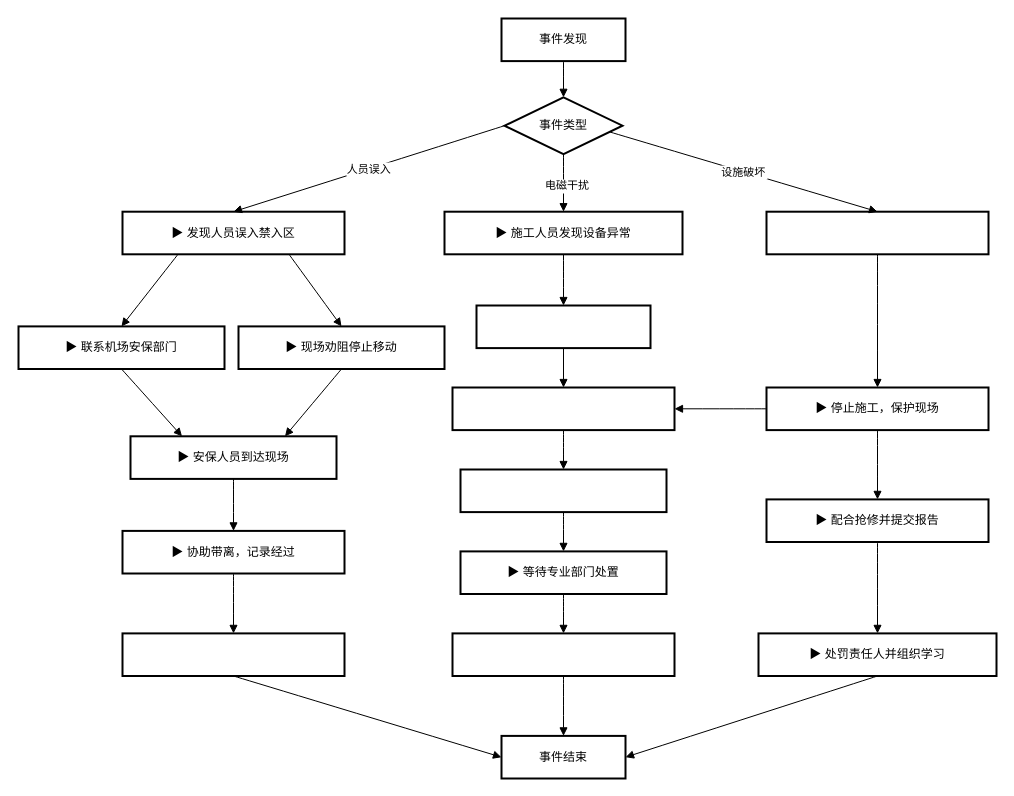
Some shapes in this 1014 by 796 pixel diagram are drawn without their labels. Each missing label, with the centre of its shape:
▶ 停止设备使用: point (563, 326)
▶ 发现敏感设施被破坏: point (877, 232)
▶ 恢复施工或更换设备: point (563, 654)
▶ 批评教育或清退出场: point (233, 654)
▶ 联系专业部门处理: point (563, 490)
▶ 通知专职空防安全员: point (563, 408)
